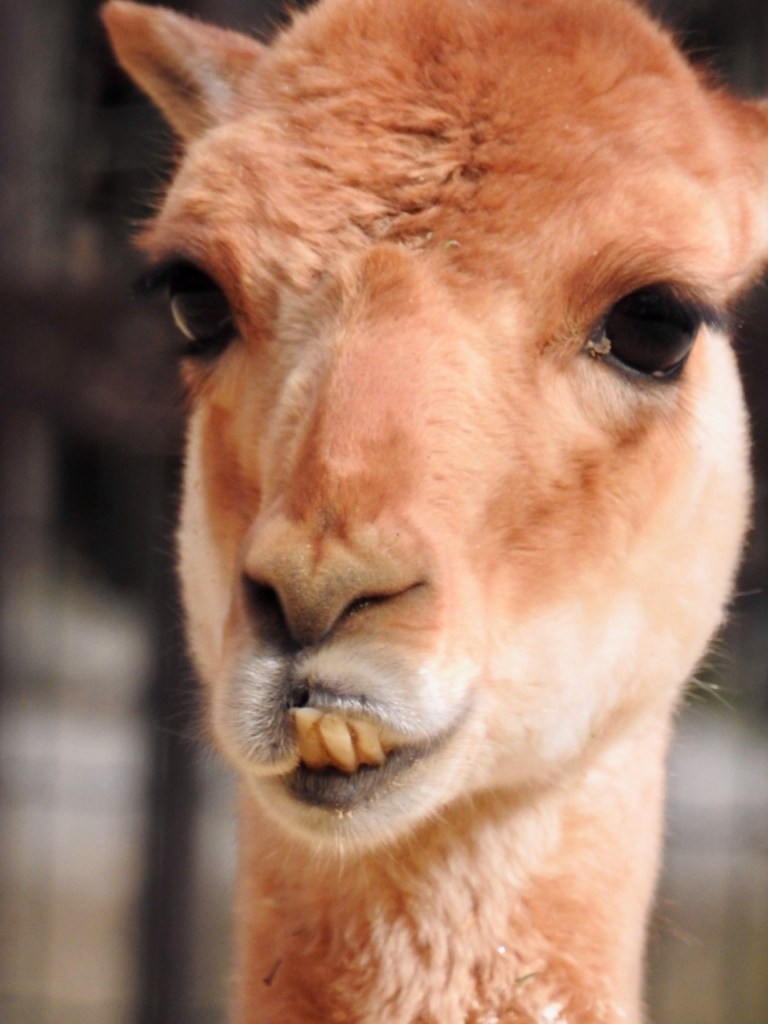eye: (610, 260, 707, 388), (153, 251, 251, 358)
mouth: (192, 627, 480, 840)
